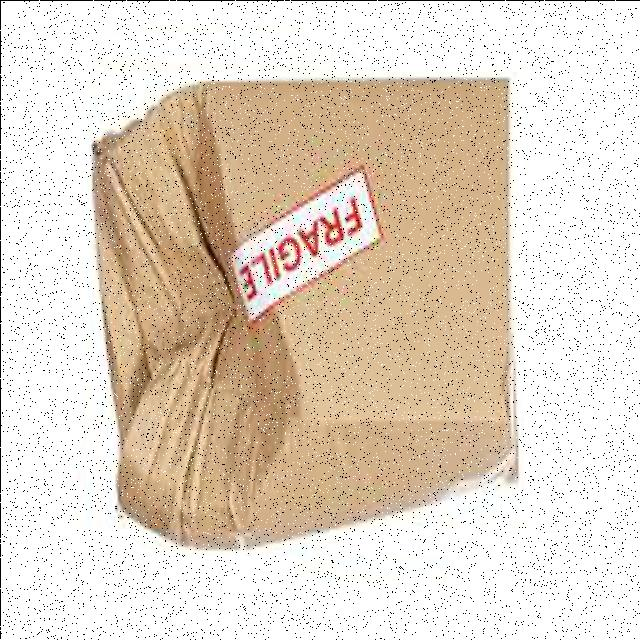defect: (85, 71, 523, 555)
